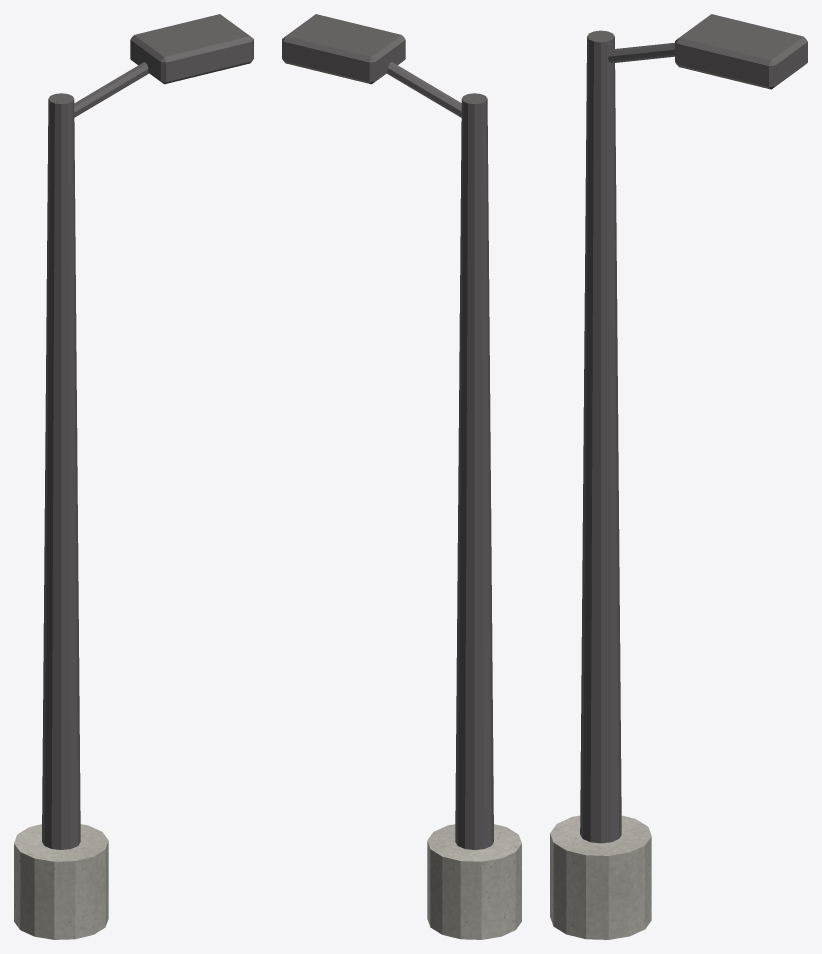
File: lamp_post.glb
The picture shows the model from 3 angles, left to right: view 1: azimuth 30°, elevation 25°; view 2: azimuth 150°, elevation 25°; view 3: azimuth 330°, elevation 25°; orthographic projection. The views are drawn at different scales.
Parts seen in each view (by area): view 1: lamp_post_dark, lamp_post_concrete; view 2: lamp_post_dark, lamp_post_concrete; view 3: lamp_post_dark, lamp_post_concrete.
Part boxes in pixels (box(x1,y1,x2,y2)): lamp_post_dark: box(42, 14, 253, 849); lamp_post_concrete: box(14, 824, 108, 939); lamp_post_dark: box(282, 14, 493, 849); lamp_post_concrete: box(427, 824, 521, 939); lamp_post_dark: box(580, 14, 807, 843); lamp_post_concrete: box(550, 815, 651, 939).
Size of the model in its own units: 1.17 by 4.36 by 0.429.
Materials: 3 (1 with a texture image).
